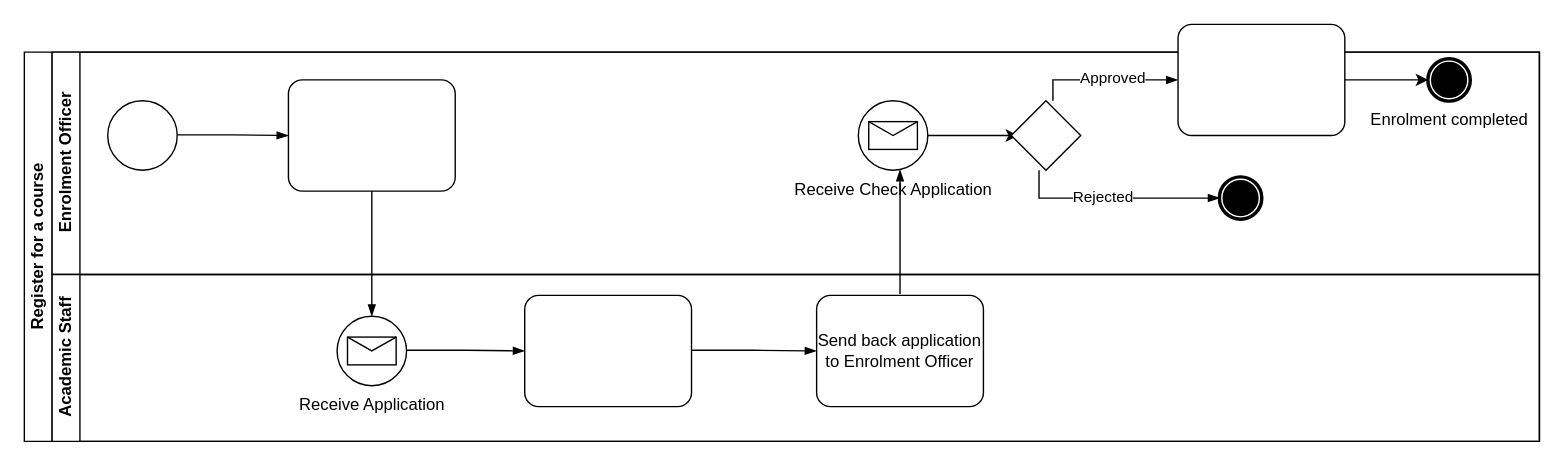
Image size: 1564x466. Some labels were removed from this diagram. The shapes that lost their labels are listed below. From the top down, each one's centre as x and y in pixels, then its label:
At point (1261, 79): "Provide a place in a course for student".
At point (371, 135): "Collect and pass new students details to academic staff".
At point (1239, 197): "Enrolment rejected".
At point (607, 350): "Conduct Application check with the academic requirements".
